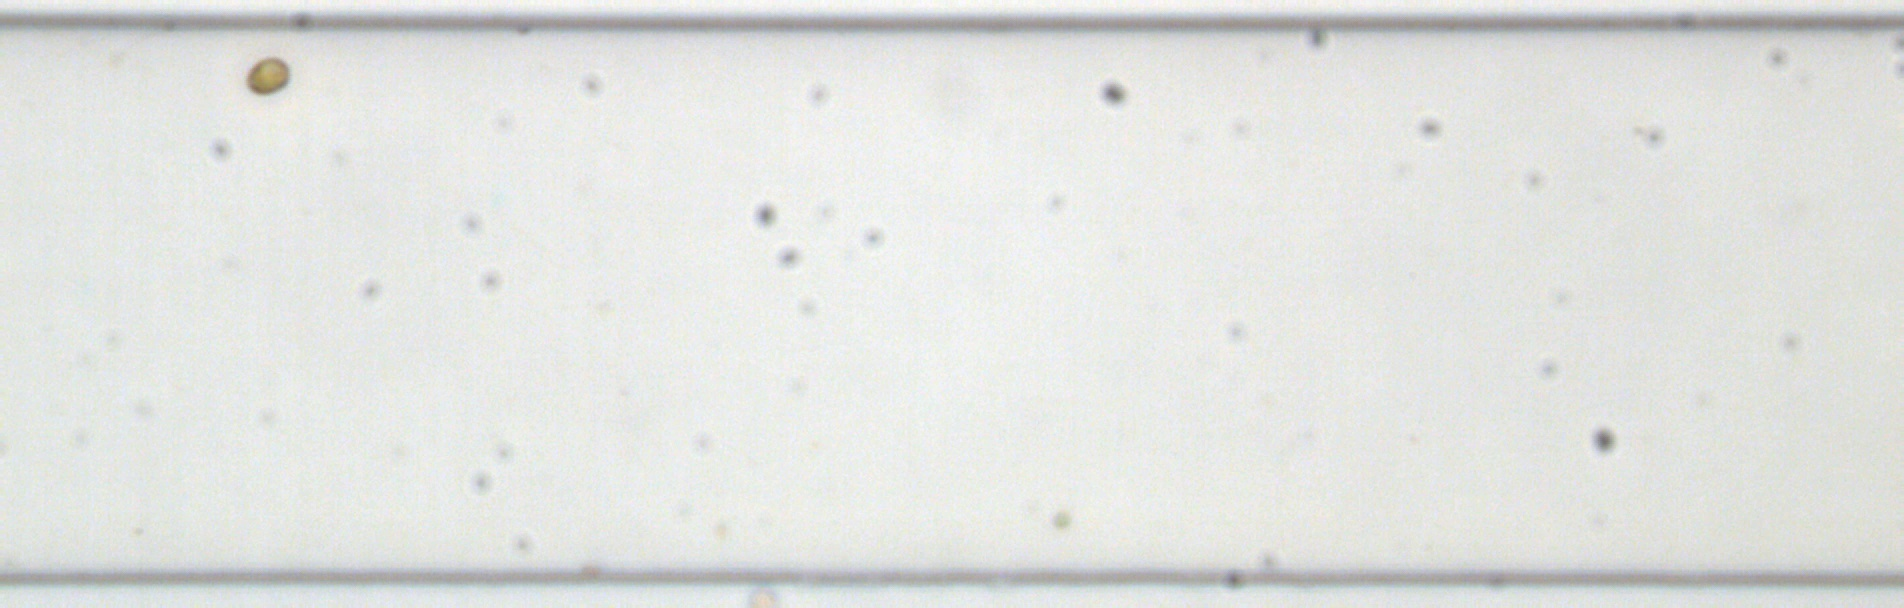Chlorella: (1050, 508, 1073, 530)
Effrenium: (240, 53, 293, 95)
